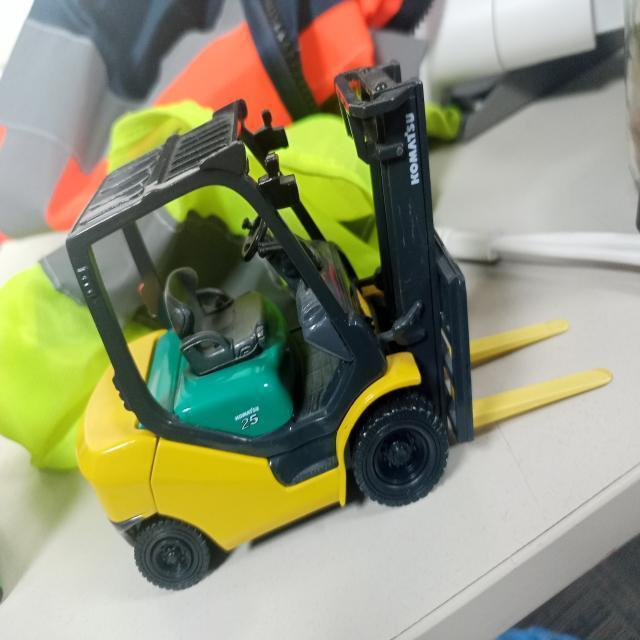forklift: (46, 71, 465, 592)
